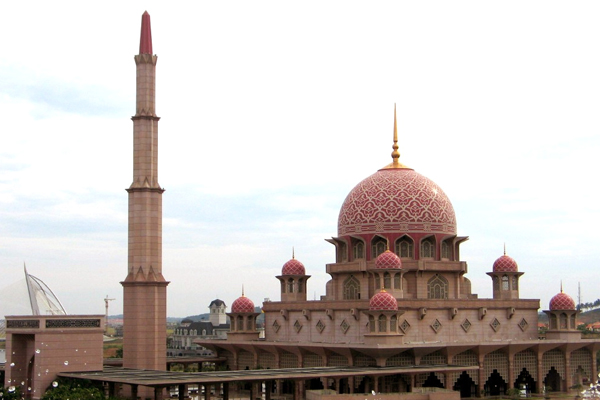Mosque: (108, 13, 591, 367)
